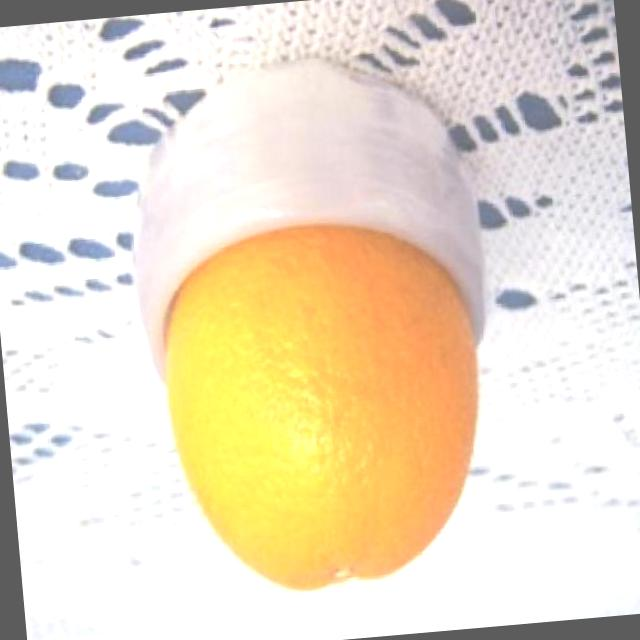Orange: (154, 220, 502, 606)
